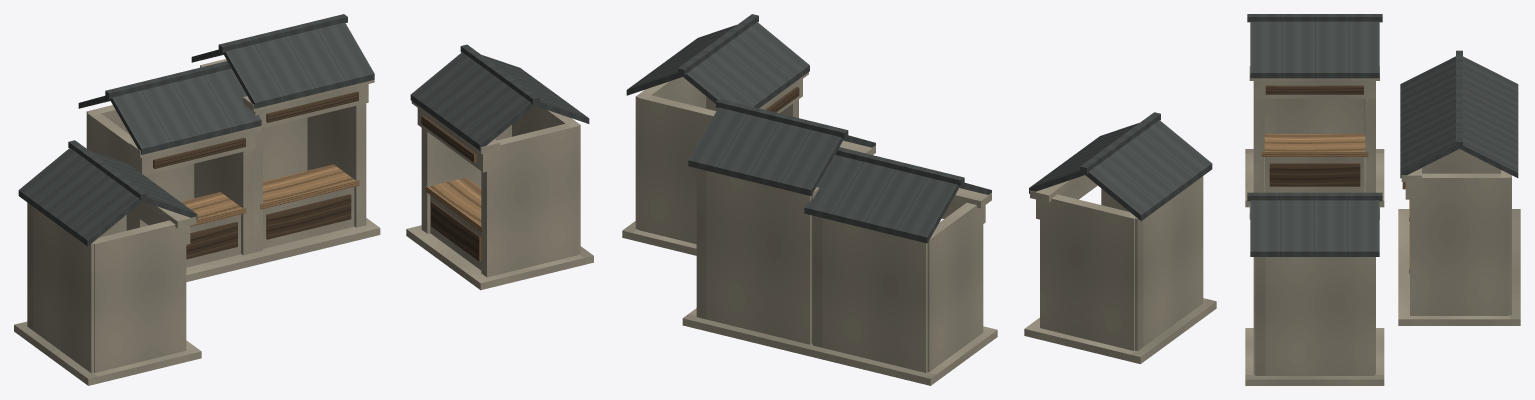
The picture shows the model from 3 angles, left to right: view 1: azimuth 30°, elevation 25°; view 2: azimuth 150°, elevation 25°; view 3: azimuth 270°, elevation 25°; orthographic projection. The views are drawn at different scales.
Visible parts, largest first — view 1: pago-pago; view 2: pago-pago; view 3: pago-pago.
Boxes of the visible parts, left/top/right/bottom form: pago-pago: left=14, top=14, right=593, bottom=385; pago-pago: left=622, top=14, right=1216, bottom=385; pago-pago: left=1245, top=14, right=1520, bottom=385.
Bounding box in the file's own units: 6.75 × 2.5 × 3.4.
Materials: 1 (1 with a texture image).
